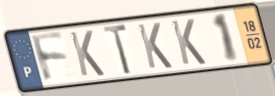1: (211, 11, 239, 65)
F: (29, 31, 71, 86)
K: (67, 29, 107, 78), (135, 21, 175, 70), (169, 17, 208, 67)
T: (101, 23, 134, 77)
